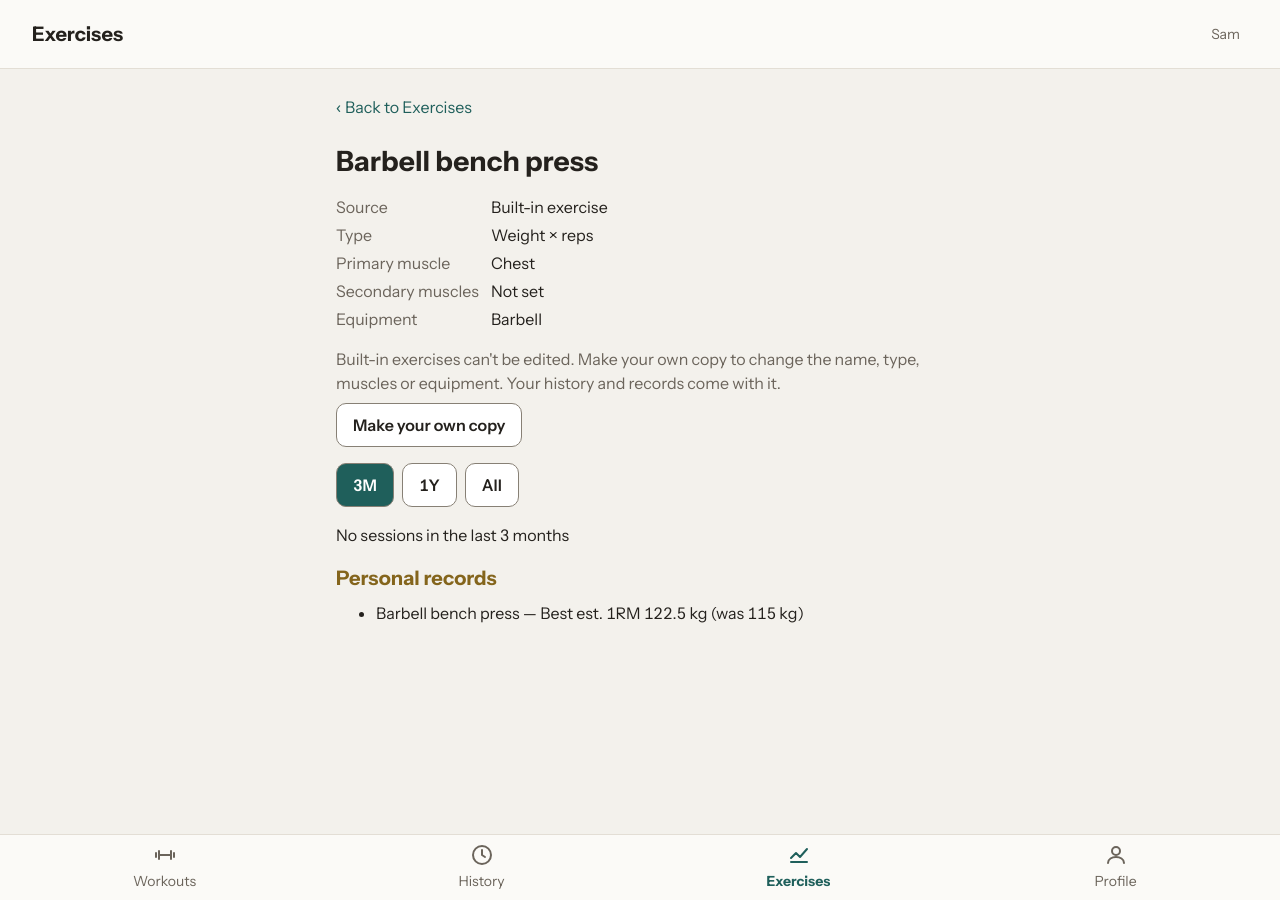
Test case: 08.1 AC20 / 18.2 AC23 — empty and thin ranges › no points in 3M → range wording; chips usable; no metric control
Check: the text "No sessions in the last 3 months" is shown, box [336,525,569,545]
Click the button "1Y": (429, 485) [402,463,457,507]
(page scrolled)
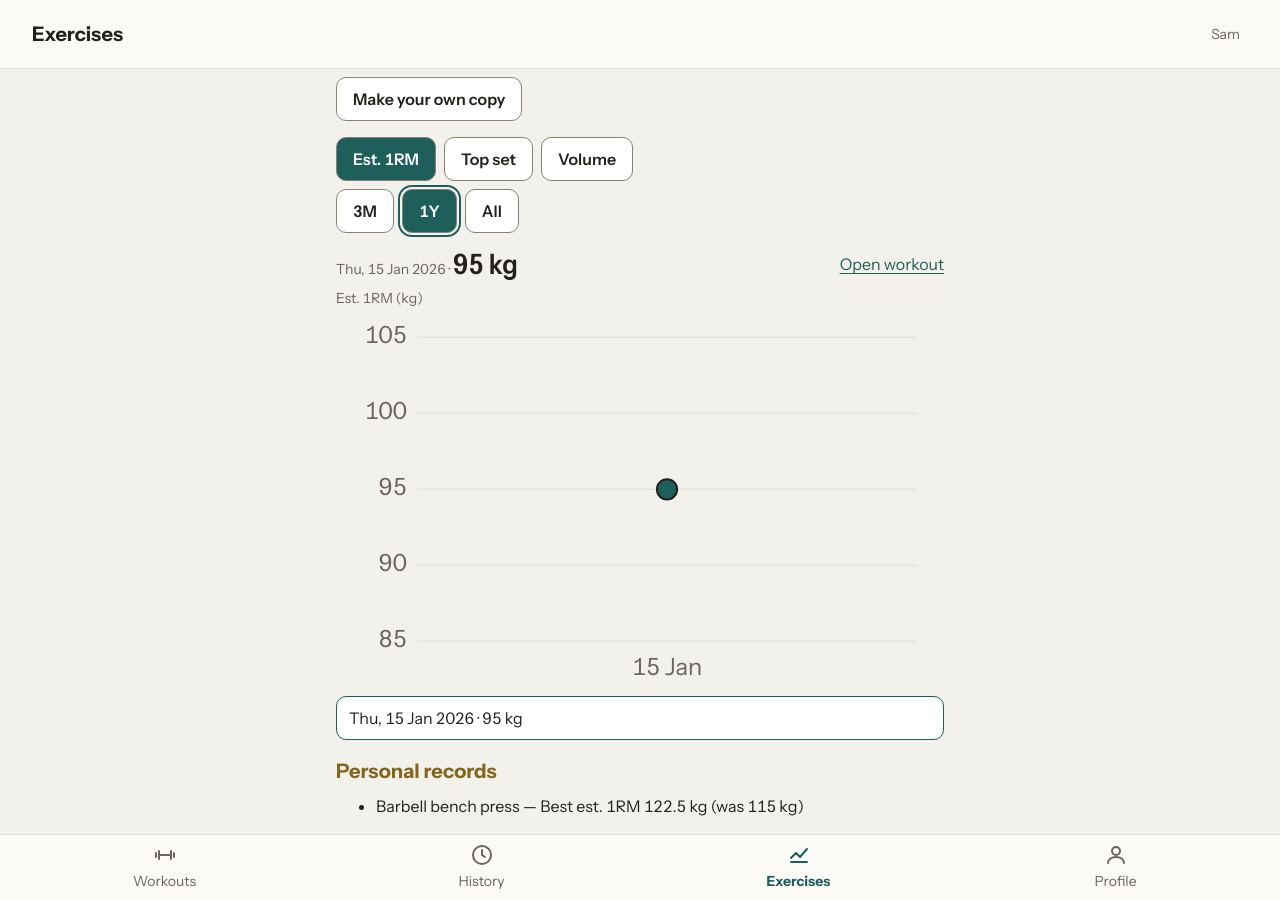
Check: the picture named "1 year: 1 session" is shown, box [336,317,944,688]
